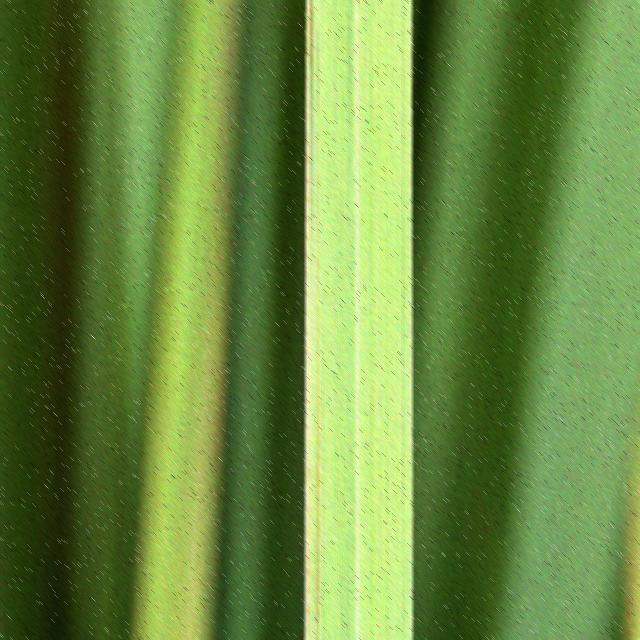BLS: (305, 0, 312, 640), (315, 31, 319, 640)
